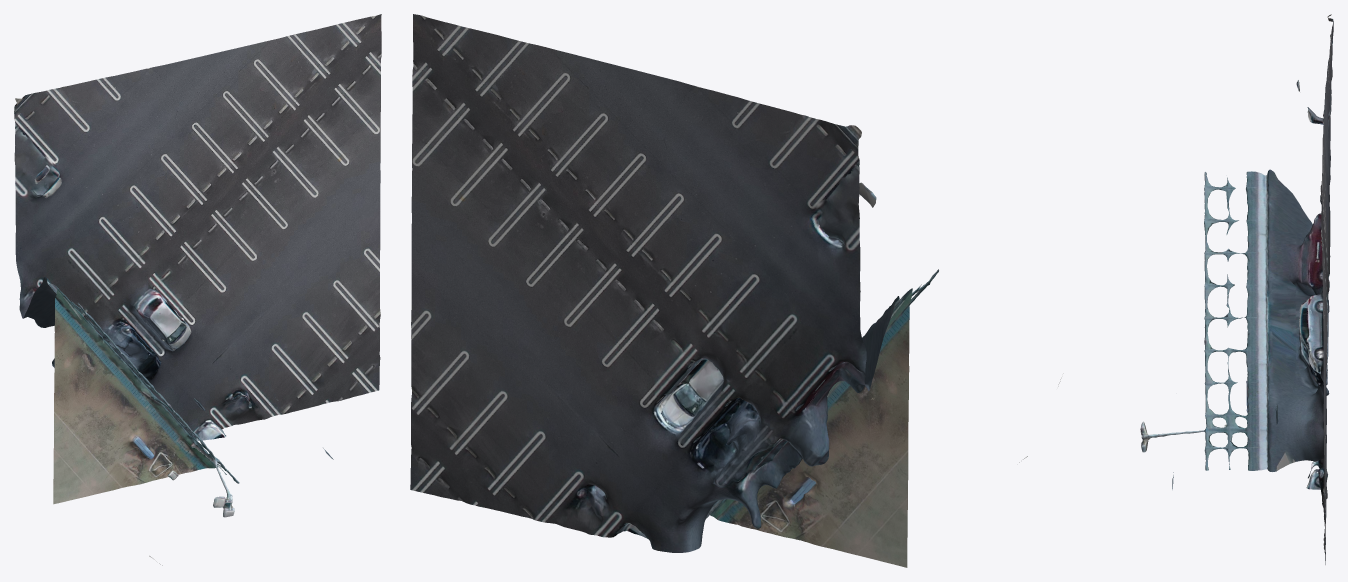
Rendered from Tile_+018_+019.fbx.
3 renders of one model, left to right at view 1: azimuth 30°, elevation 25°; view 2: azimuth 150°, elevation 25°; view 3: azimuth 270°, elevation 25°, orthographic. The views are drawn at different scales.
Visible parts, largest first — view 1: DefaultName; view 2: DefaultName; view 3: DefaultName.
Boxes of the visible parts, bbox=[...] form: DefaultName: bbox=[14, 14, 381, 565]; DefaultName: bbox=[410, 14, 1027, 567]; DefaultName: bbox=[1058, 14, 1333, 564].
Bounding box in the file's own units: 22.54 × 22.54 × 15.01.
